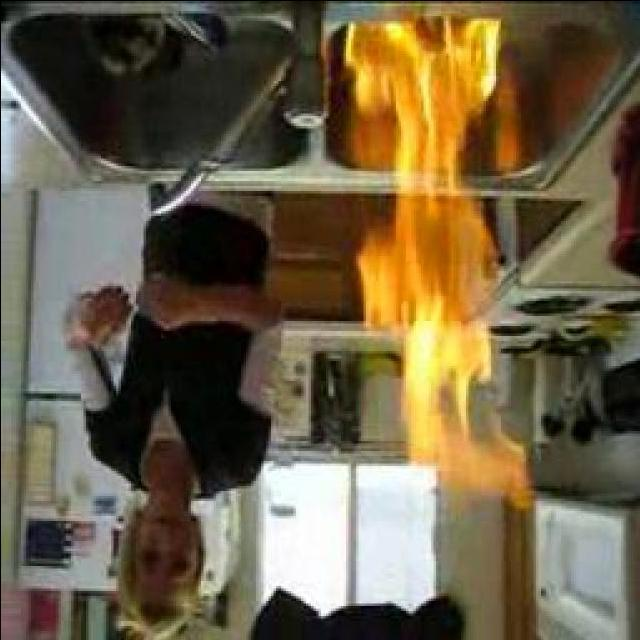Fire: (347, 11, 503, 384), (393, 387, 534, 507)
